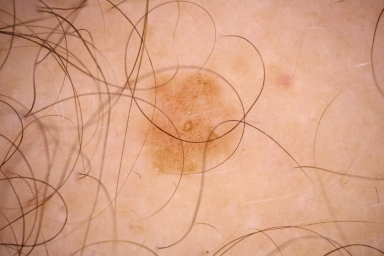seborrheic keratosis: (143, 69, 241, 173)
